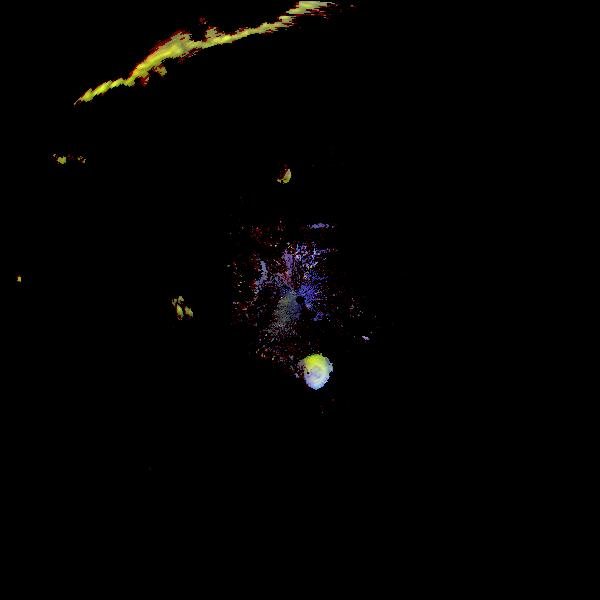roost: (291, 349, 339, 397), (269, 161, 296, 188)
